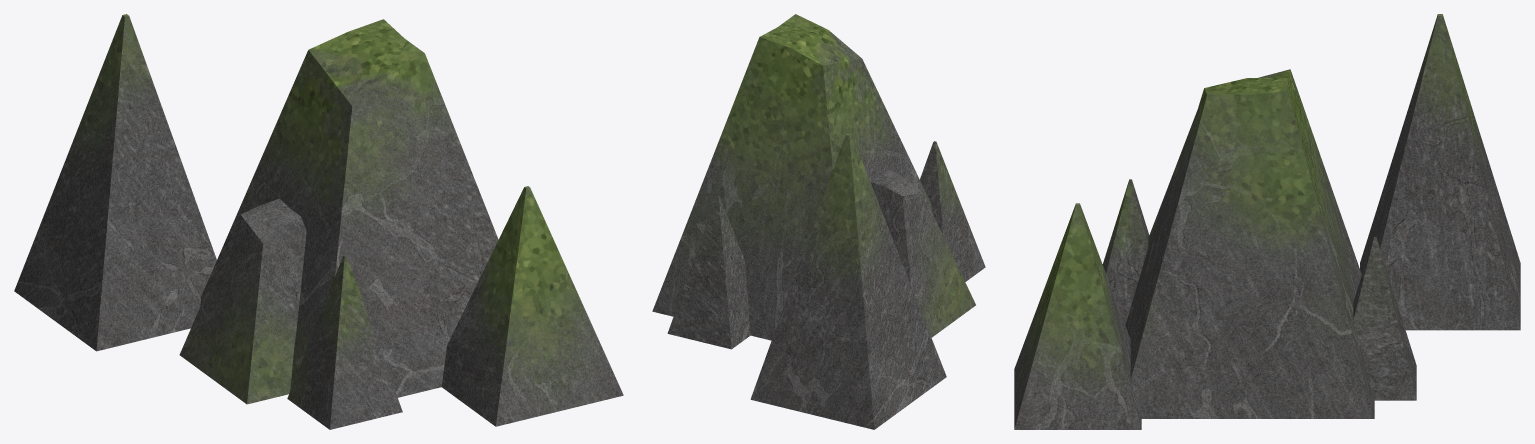
3 views of the same model, side by side, from view 1: azimuth 30°, elevation 25°; view 2: azimuth 150°, elevation 25°; view 3: azimuth 270°, elevation 25° (orthographic). The views are drawn at different scales.
Parts seen in each view (by area): view 1: 3DObj_Land_7; view 2: 3DObj_Land_7; view 3: 3DObj_Land_7.
Boxes of the visible parts, x1,y1,x2,y2 form: 3DObj_Land_7: [14, 14, 623, 429]; 3DObj_Land_7: [652, 14, 985, 429]; 3DObj_Land_7: [1014, 14, 1520, 429].
Bounding box in the file's own units: 419 × 341 × 537.
Materials: 1 (1 with a texture image).
